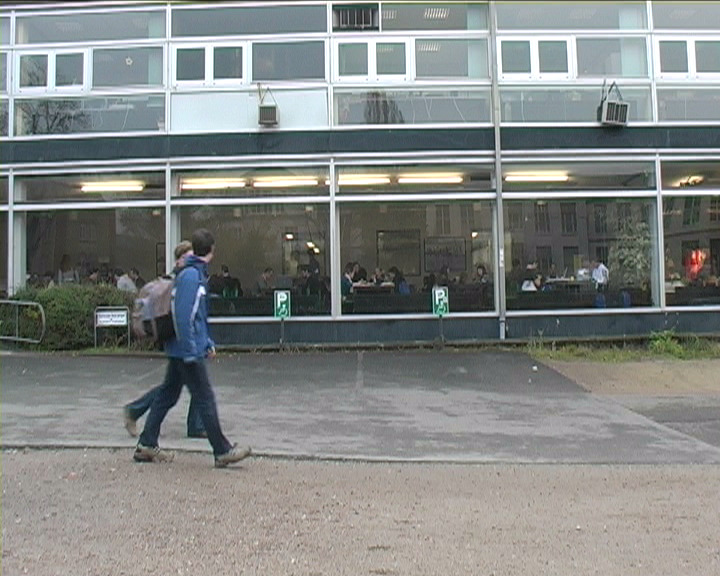deflection: (167, 226, 224, 337)
